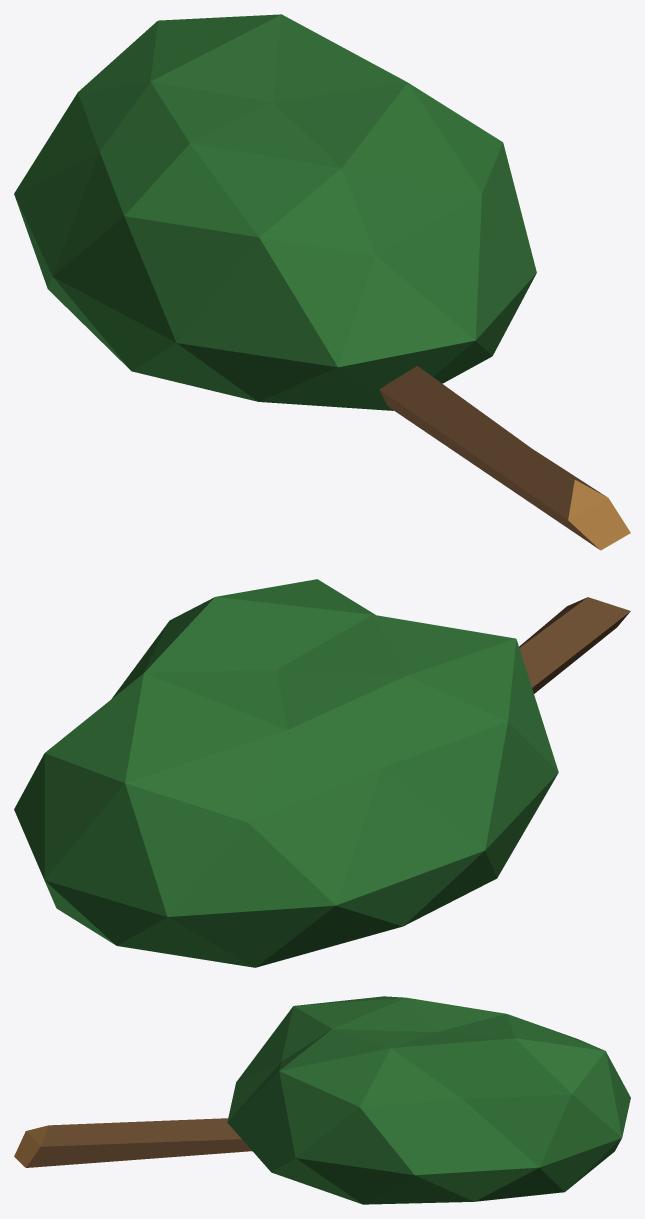
File: nature-tree-debris-h.glb
3 renders of one model, top to bottom at view 1: azimuth 30°, elevation 25°; view 2: azimuth 150°, elevation 25°; view 3: azimuth 270°, elevation 25°, orthographic. The views are drawn at different scales.
Parts seen in each view (by area): view 1: tree-debris-h; view 2: tree-debris-h; view 3: tree-debris-h.
Boxes of the visible parts, box(x1,y1,x2,y2) form: tree-debris-h: box(14, 14, 630, 550); tree-debris-h: box(14, 579, 630, 967); tree-debris-h: box(14, 996, 630, 1204).
Bounding box in the file's own units: 1.49 × 0.7633 × 2.99.
